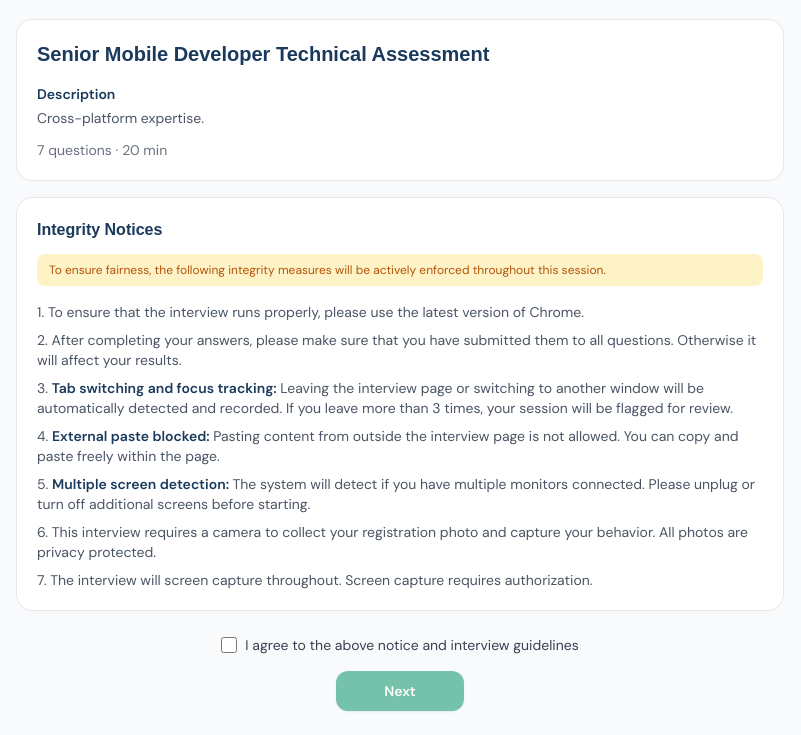
Test: Checklist step › opens the checklist after agreeing; Back returns to the info step
Click the checkbox at (229, 645), box [221,637,237,653]
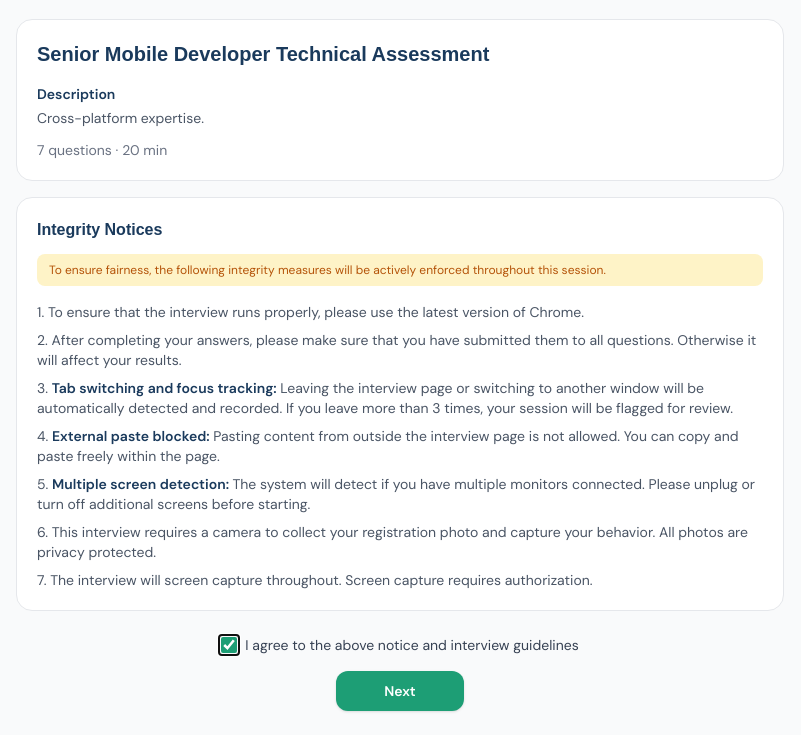
Click the button "Next" at (400, 691), box [336,671,464,711]
(page scrolled)
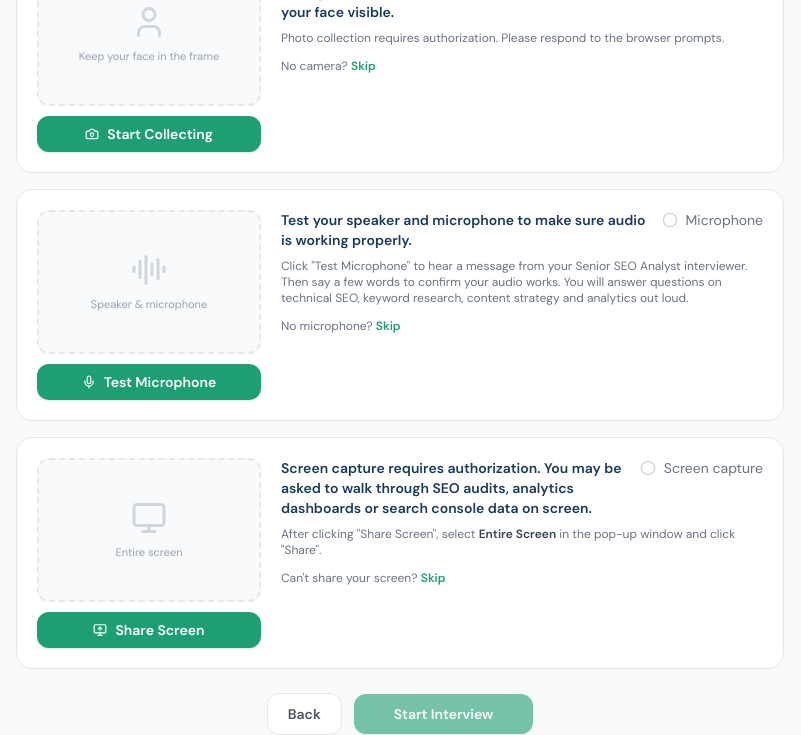
Check: the button "Start Collecting" is shown, box [37,116,261,152]
Check: the button "Test Microphone" is shown, box [37,364,261,400]
Check: the button "Share Screen" is shown, box [37,612,261,648]
Click the button "Back" at (304, 714), box [267,693,342,734]
(page scrolled)
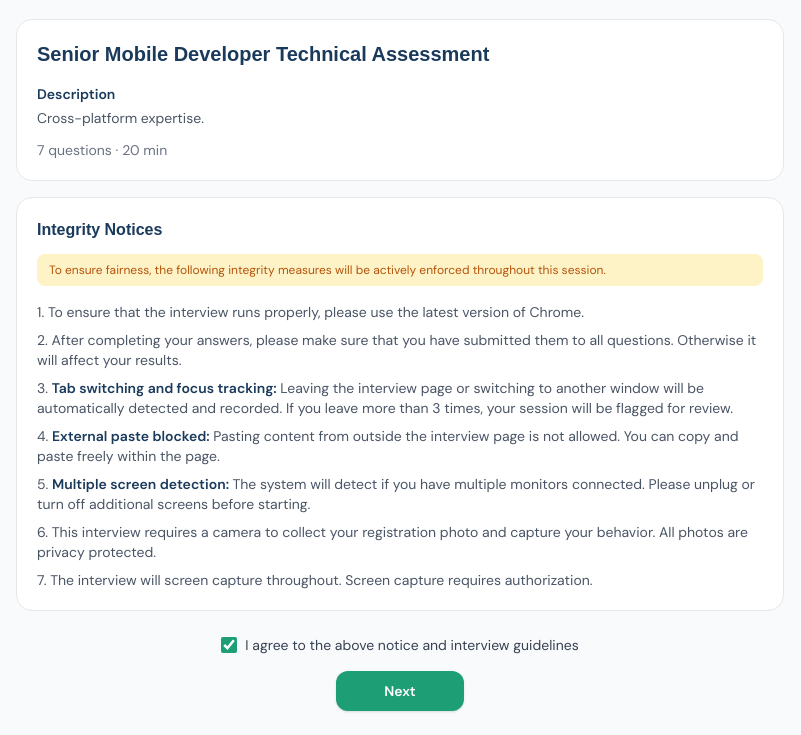
Check: the heading "Senior Mobile Developer Technical Assessment" is shown, box [37,43,489,65]
